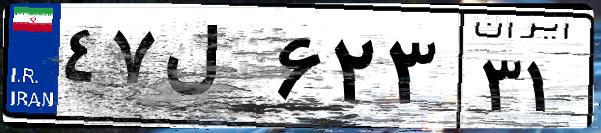1: (525, 38, 570, 115)
2: (330, 28, 385, 110)
3: (385, 28, 445, 110), (475, 38, 525, 113)
4: (57, 26, 110, 100)
6: (270, 28, 330, 110)
7: (110, 28, 158, 98)
ل: (158, 20, 270, 120)
